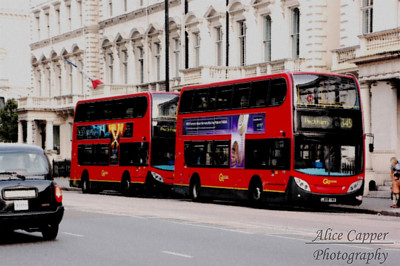bus: (173, 70, 367, 208), (67, 91, 175, 193)
car: (1, 143, 64, 240)
